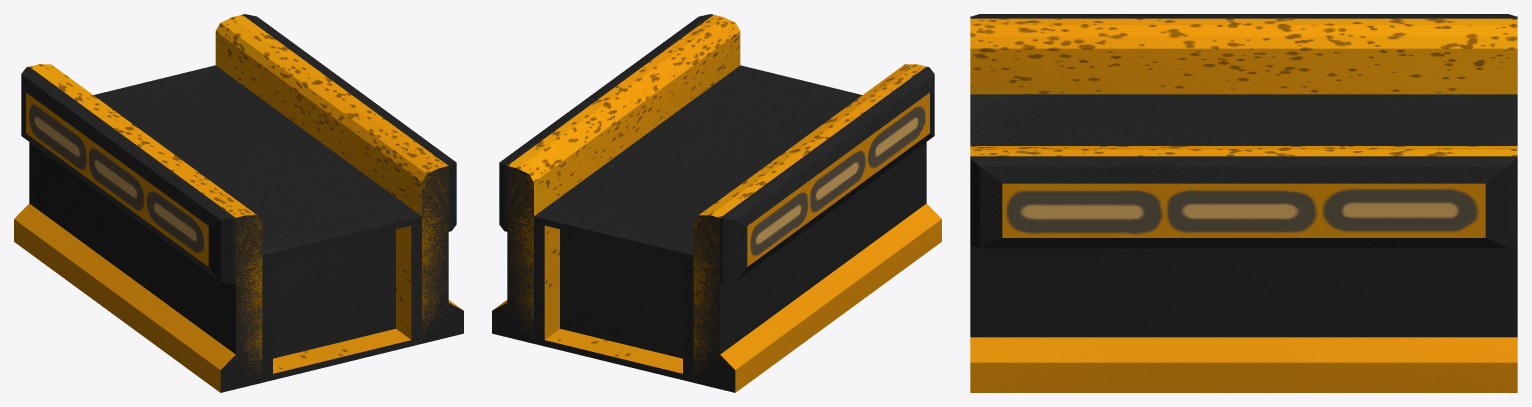
The model's file is conveyor.fbx.
3 renders of one model, left to right at view 1: azimuth 30°, elevation 25°; view 2: azimuth 150°, elevation 25°; view 3: azimuth 270°, elevation 25°, orthographic. The views are drawn at different scales.
Parts seen in each view (by area): view 1: Cube.003; view 2: Cube.003; view 3: Cube.003.
Part boxes in pixels (bbox=[...]): Cube.003: bbox=[14, 14, 463, 392]; Cube.003: bbox=[492, 14, 941, 392]; Cube.003: bbox=[970, 14, 1517, 392].
Bounding box in the file's own units: 200 × 91.56 × 136.
